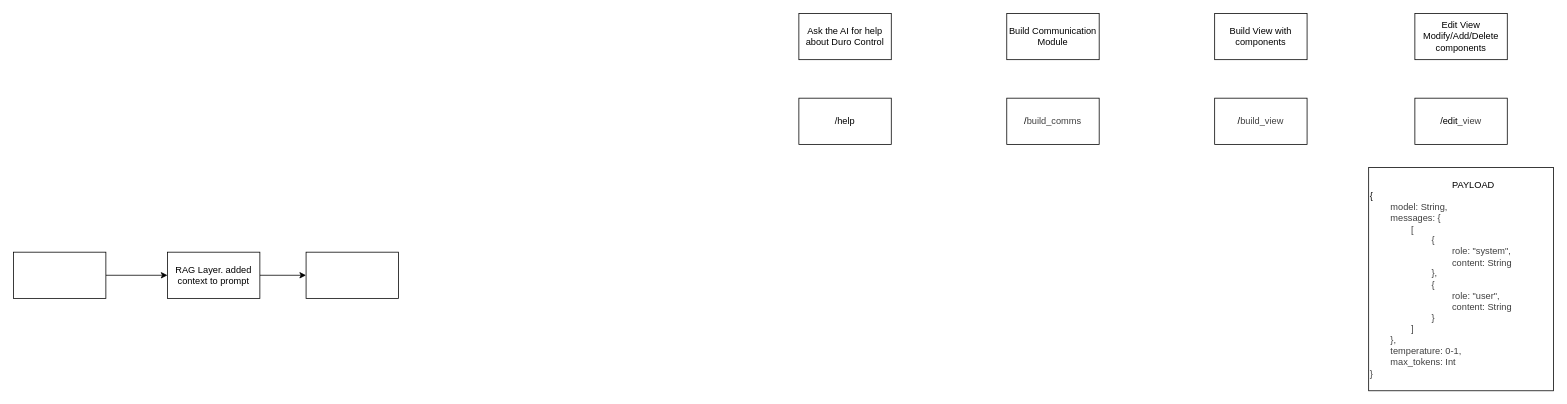
Image size: 1567x404. Some labels were removed from this diagram. Each missing label, with the centre of its shape:
"Send prompt to AI Server" goes at (351,274).
"User Send Prompt" goes at (59,274).
